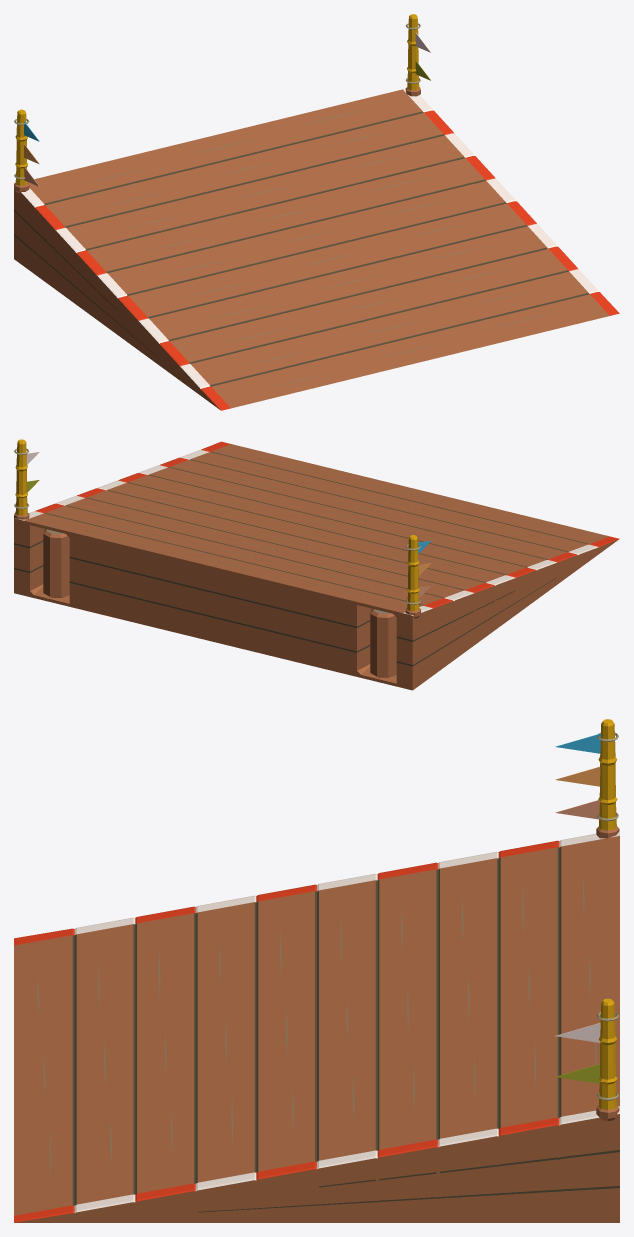
The model's file is jumpTakeoff.glb.
The picture shows the model from 3 angles, top to bottom: view 1: azimuth 30°, elevation 25°; view 2: azimuth 150°, elevation 25°; view 3: azimuth 270°, elevation 25°; orthographic projection. The views are drawn at different scales.
Visible parts, largest first — view 1: jumpTakeoff; view 2: jumpTakeoff; view 3: jumpTakeoff.
Part boxes in pixels (box(x1,y1,x2,y2)): jumpTakeoff: box(14, 14, 619, 410); jumpTakeoff: box(14, 439, 619, 690); jumpTakeoff: box(14, 719, 619, 1222).
Size of the model in its own units: 10.16 by 3.6 by 9.
Materials: 1 (1 with a texture image).
